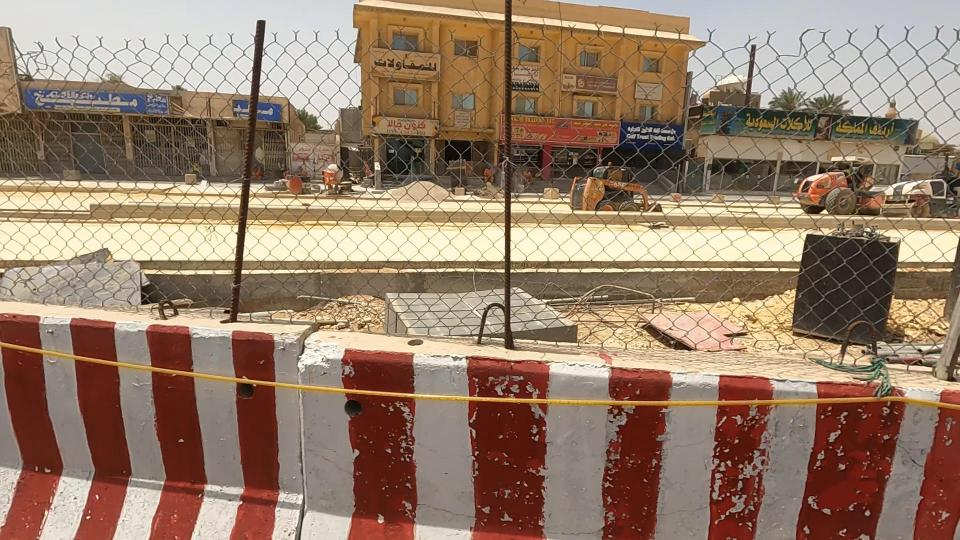CONSTRUCTION_ROAD: (186, 123, 960, 540), (0, 169, 498, 532)
